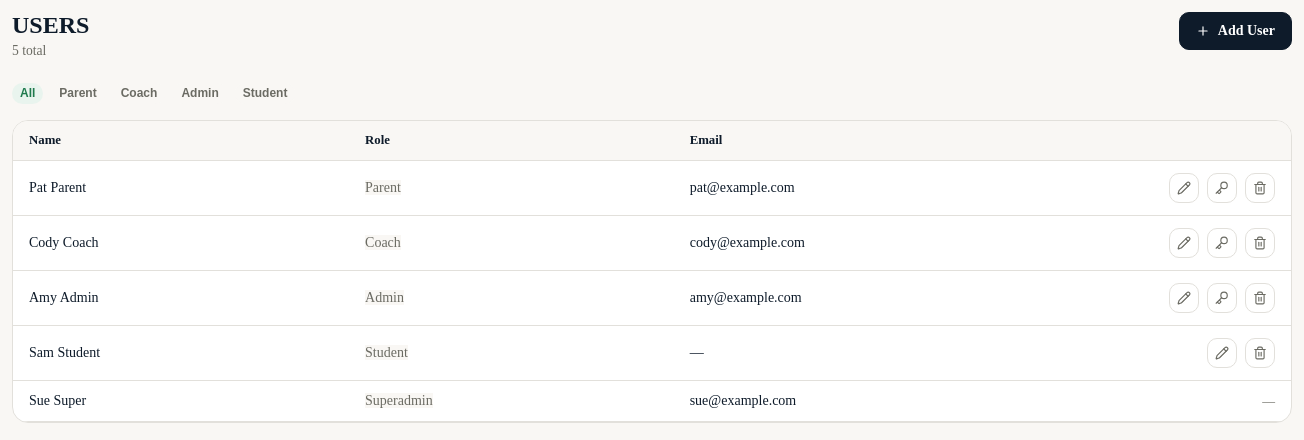
Test: UsersPage › switches tabs and re-fetches with the corresponding role filter
Expected: the text "Pat Parent" is shown, [13,160,349,215]
What coordinates should you click on to do the following:
click the button "Coach"
I would click on:
 (139, 93)
Its box is [113,83,165,104].
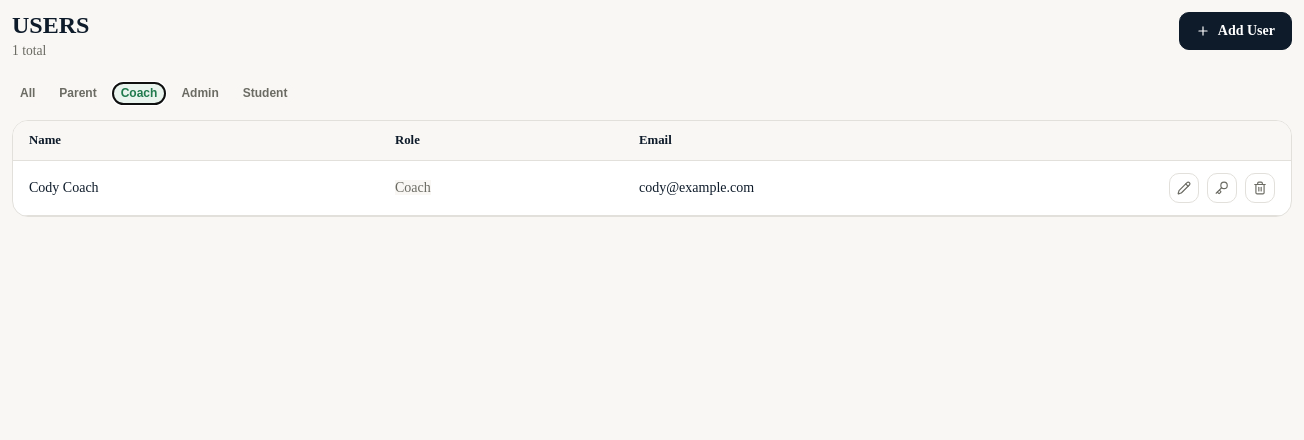
Expected: the text "Cody Coach" is shown, [13,160,379,215]
Expected: the text "Pat Parent" is gone
